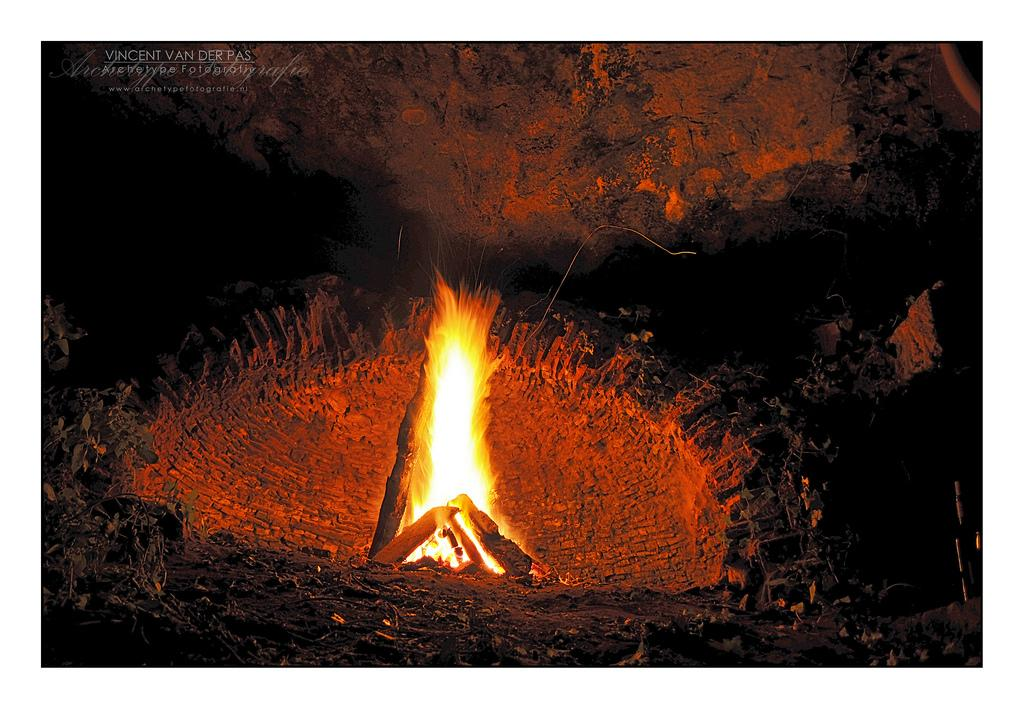fire: (428, 330, 482, 542)
